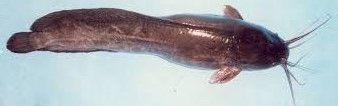Catfish: (7, 3, 291, 85)
